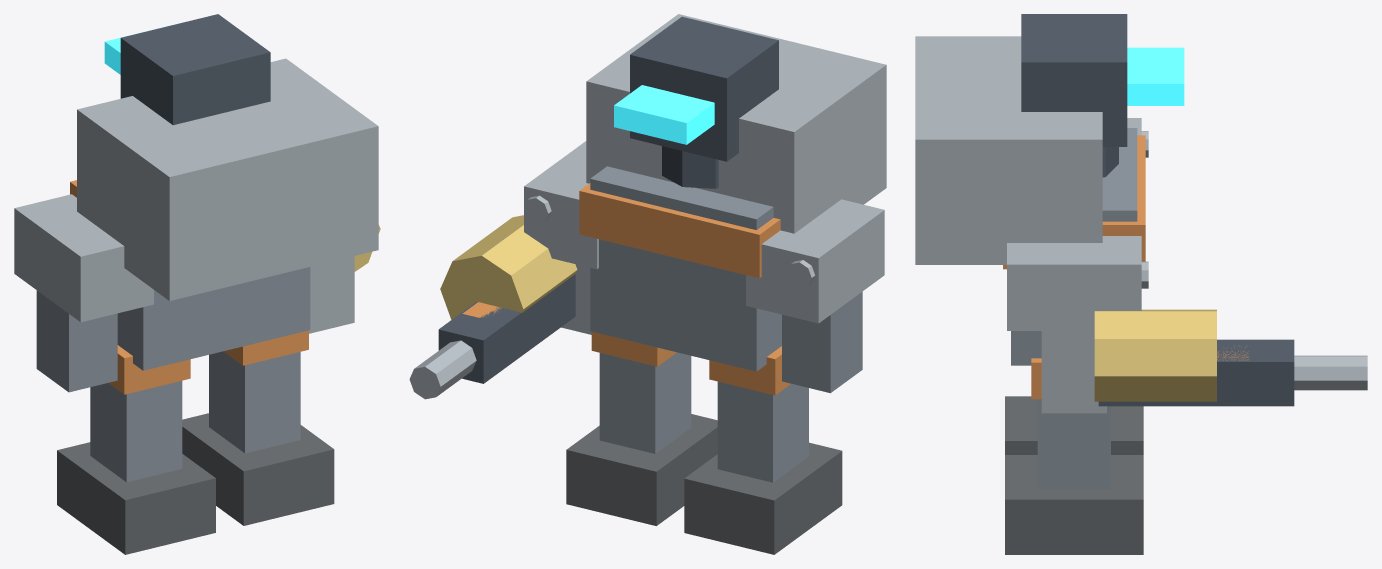
File: scv.glb
3 renders of one model, left to right at view 1: azimuth 30°, elevation 25°; view 2: azimuth 150°, elevation 25°; view 3: azimuth 270°, elevation 25°, orthographic.
Visible parts, largest first — view 1: detail_018, detail_011, detail_006, detail_000, detail_008, detail_001, detail_002, detail_003, detail_013, detail_014, detail_004, detail_005 (+1 smaller); view 2: detail_018, detail_006, detail_011, detail_000, detail_008, detail_001, detail_007, detail_003, detail_002, detail_019, detail_015, detail_013 (+9 smaller); view 3: detail_018, detail_001, detail_011, detail_019, detail_009, detail_015, detail_003, detail_014, detail_000, detail_006, detail_012, detail_016 (+1 smaller).
Boxes of the visible parts, x1,y1,x2,y2 form: detail_018: (77, 58, 378, 300); detail_011: (120, 14, 270, 125); detail_006: (117, 267, 310, 370); detail_000: (57, 442, 215, 554); detail_008: (14, 194, 153, 322); detail_001: (182, 413, 334, 525); detail_002: (90, 381, 182, 482); detail_003: (209, 351, 300, 453); detail_013: (36, 290, 117, 392); detail_014: (309, 256, 354, 333); detail_004: (108, 345, 190, 394); detail_005: (223, 330, 308, 365); detail_018: (586, 14, 886, 233); detail_006: (590, 166, 781, 371); detail_011: (630, 16, 778, 161); detail_000: (684, 442, 842, 554); detail_008: (746, 199, 884, 323); detail_001: (566, 414, 717, 525); detail_007: (579, 183, 780, 278); detail_003: (599, 352, 691, 453); detail_002: (717, 381, 808, 482); detail_019: (440, 215, 577, 319); detail_015: (438, 274, 575, 383); detail_013: (782, 291, 862, 393); detail_018: (915, 36, 1102, 264); detail_001: (1005, 455, 1143, 554); detail_011: (1021, 14, 1127, 146); detail_019: (1094, 309, 1216, 401); detail_009: (1007, 236, 1141, 330); detail_015: (1098, 339, 1294, 406); detail_003: (1037, 399, 1110, 488); detail_014: (1041, 331, 1106, 413); detail_000: (1005, 396, 1143, 454); detail_006: (1011, 128, 1137, 365); detail_012: (1127, 47, 1184, 105); detail_016: (1294, 355, 1367, 390).
Size of the model in its own units: 0.985 by 1.26 by 1.11.
